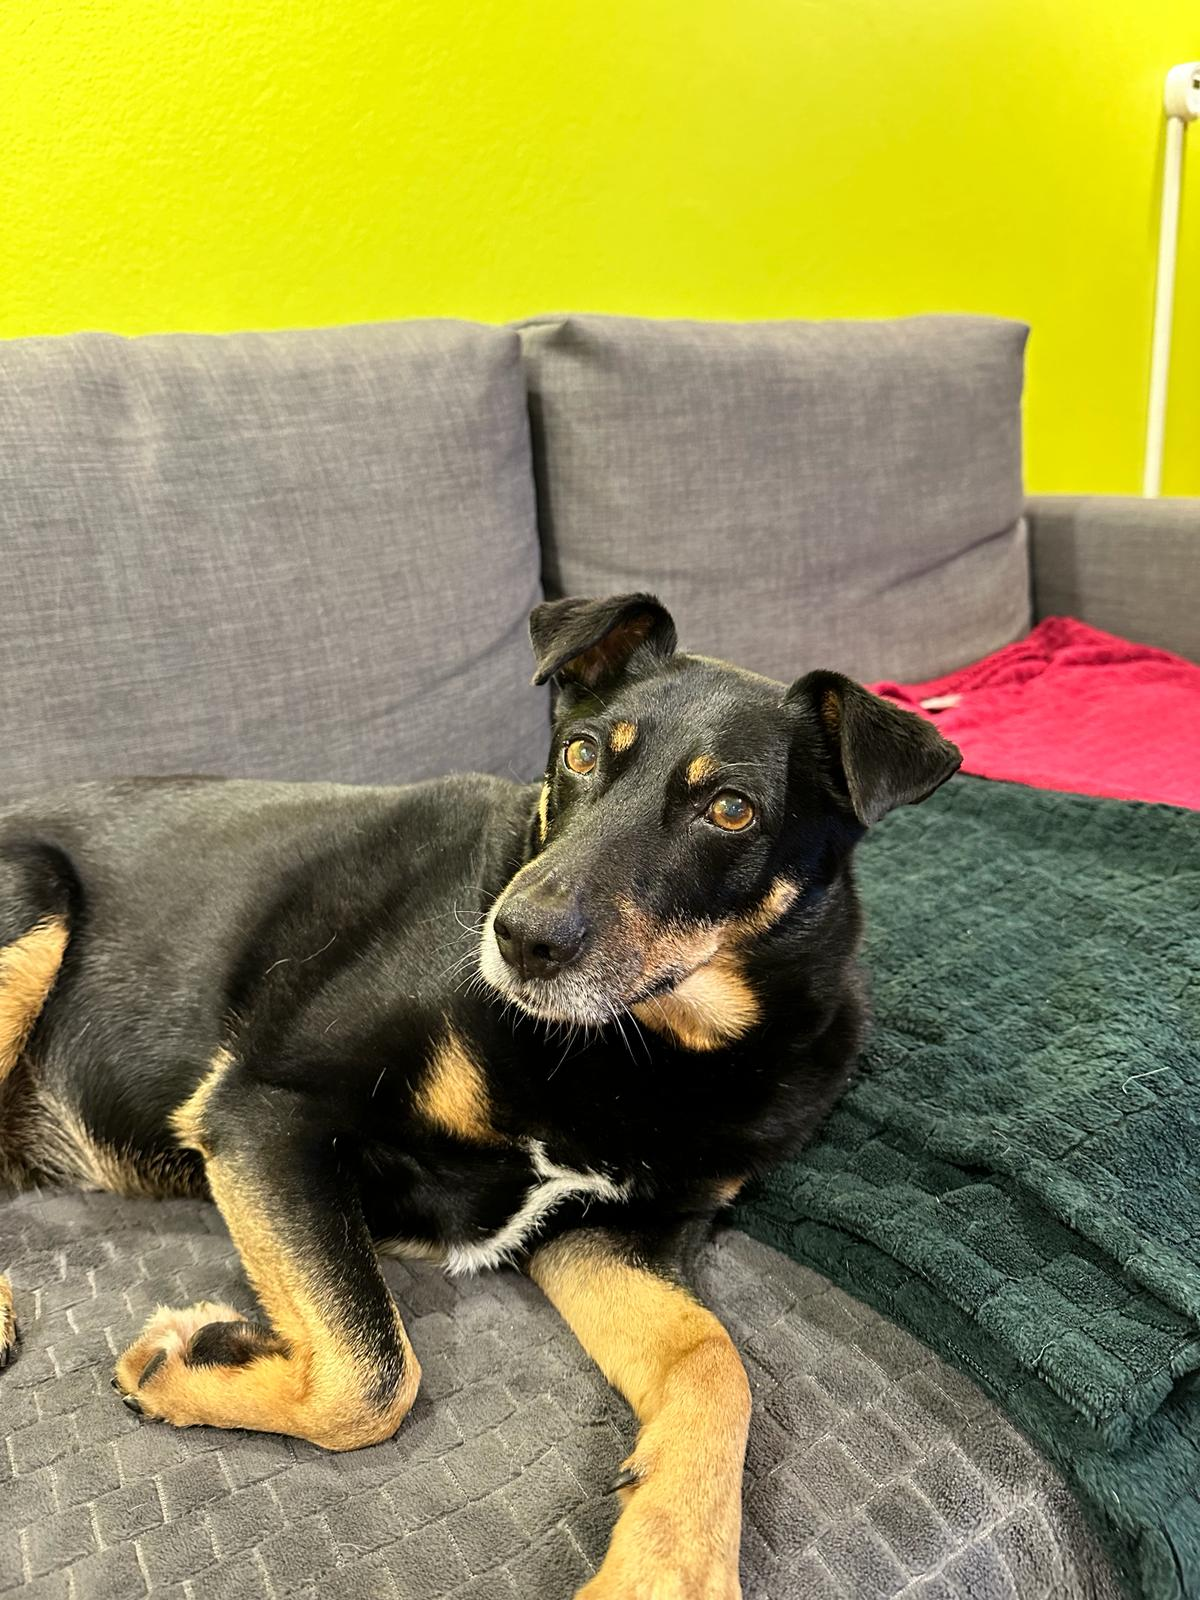reksio: (391, 537, 1037, 1406)
